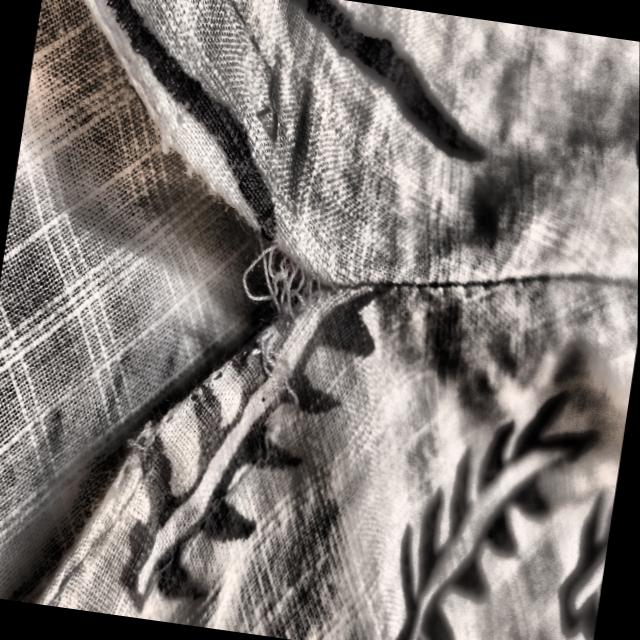Stitch: (208, 212, 367, 452)
